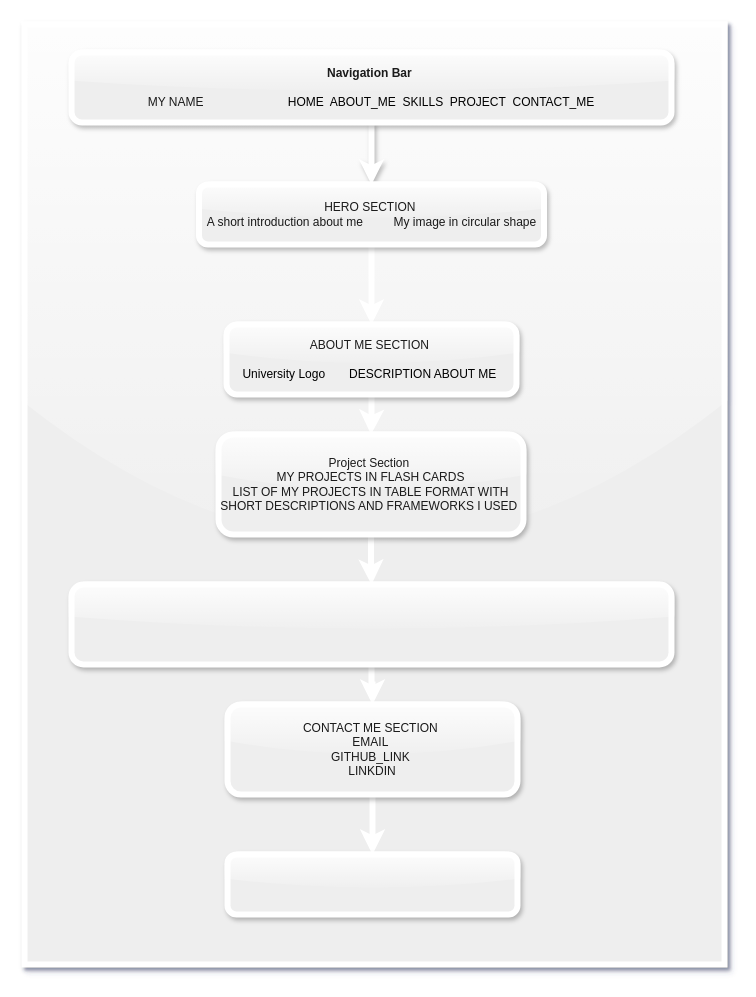
This 756x997 diagram has some shape labels left out. The shapes that lost their labels are listed below. From the top down, each one's centre as x and y in pixels, then its label:
At (372,625): "SKILL SECTION A GRAPHIC FOR SKILL LIST OF MY SKILLS".
At (373,885): "FOOTER AUTHOR AND LAST MODIFIED".
